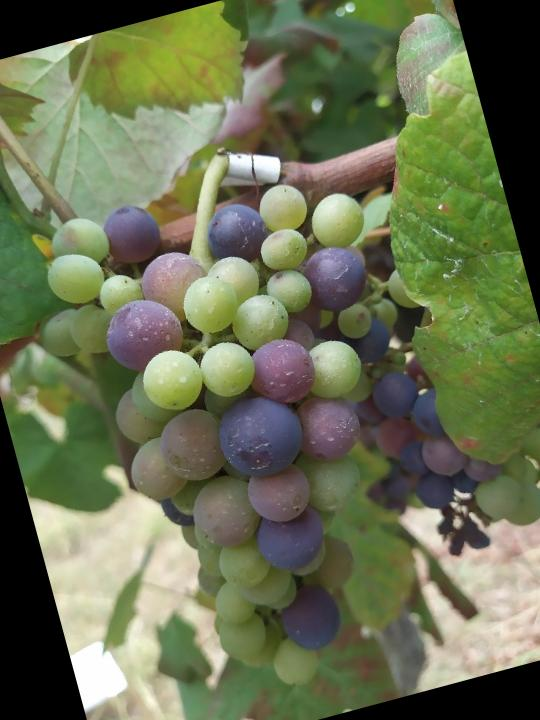grape: (30, 141, 484, 720)
